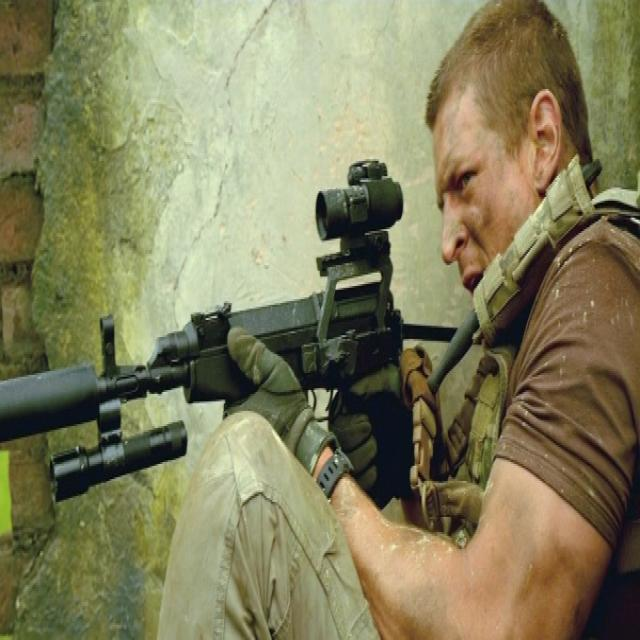rifle: (3, 152, 436, 511)
